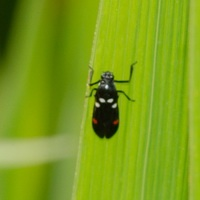insect: (88, 62, 136, 137)
